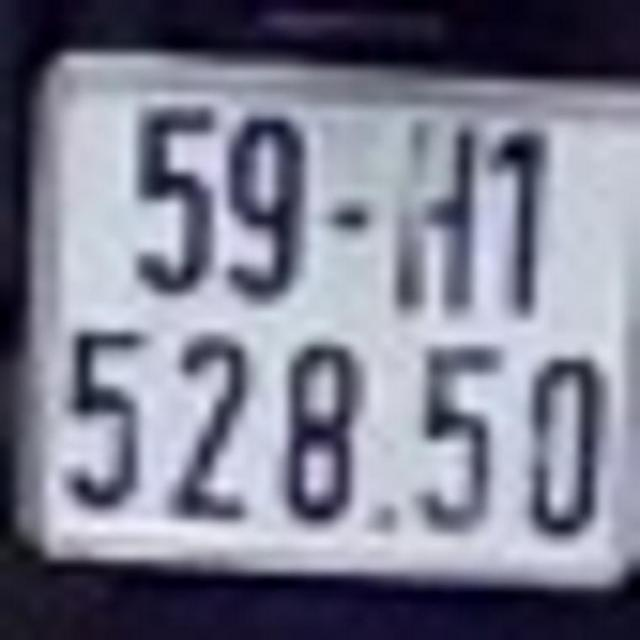0: (530, 344, 600, 546)
1: (490, 112, 548, 319)
2: (168, 325, 254, 520)
5: (419, 337, 504, 530), (129, 97, 210, 290), (71, 322, 139, 517)
8: (289, 338, 361, 525)
9: (226, 105, 300, 298)
H: (384, 107, 483, 311)
